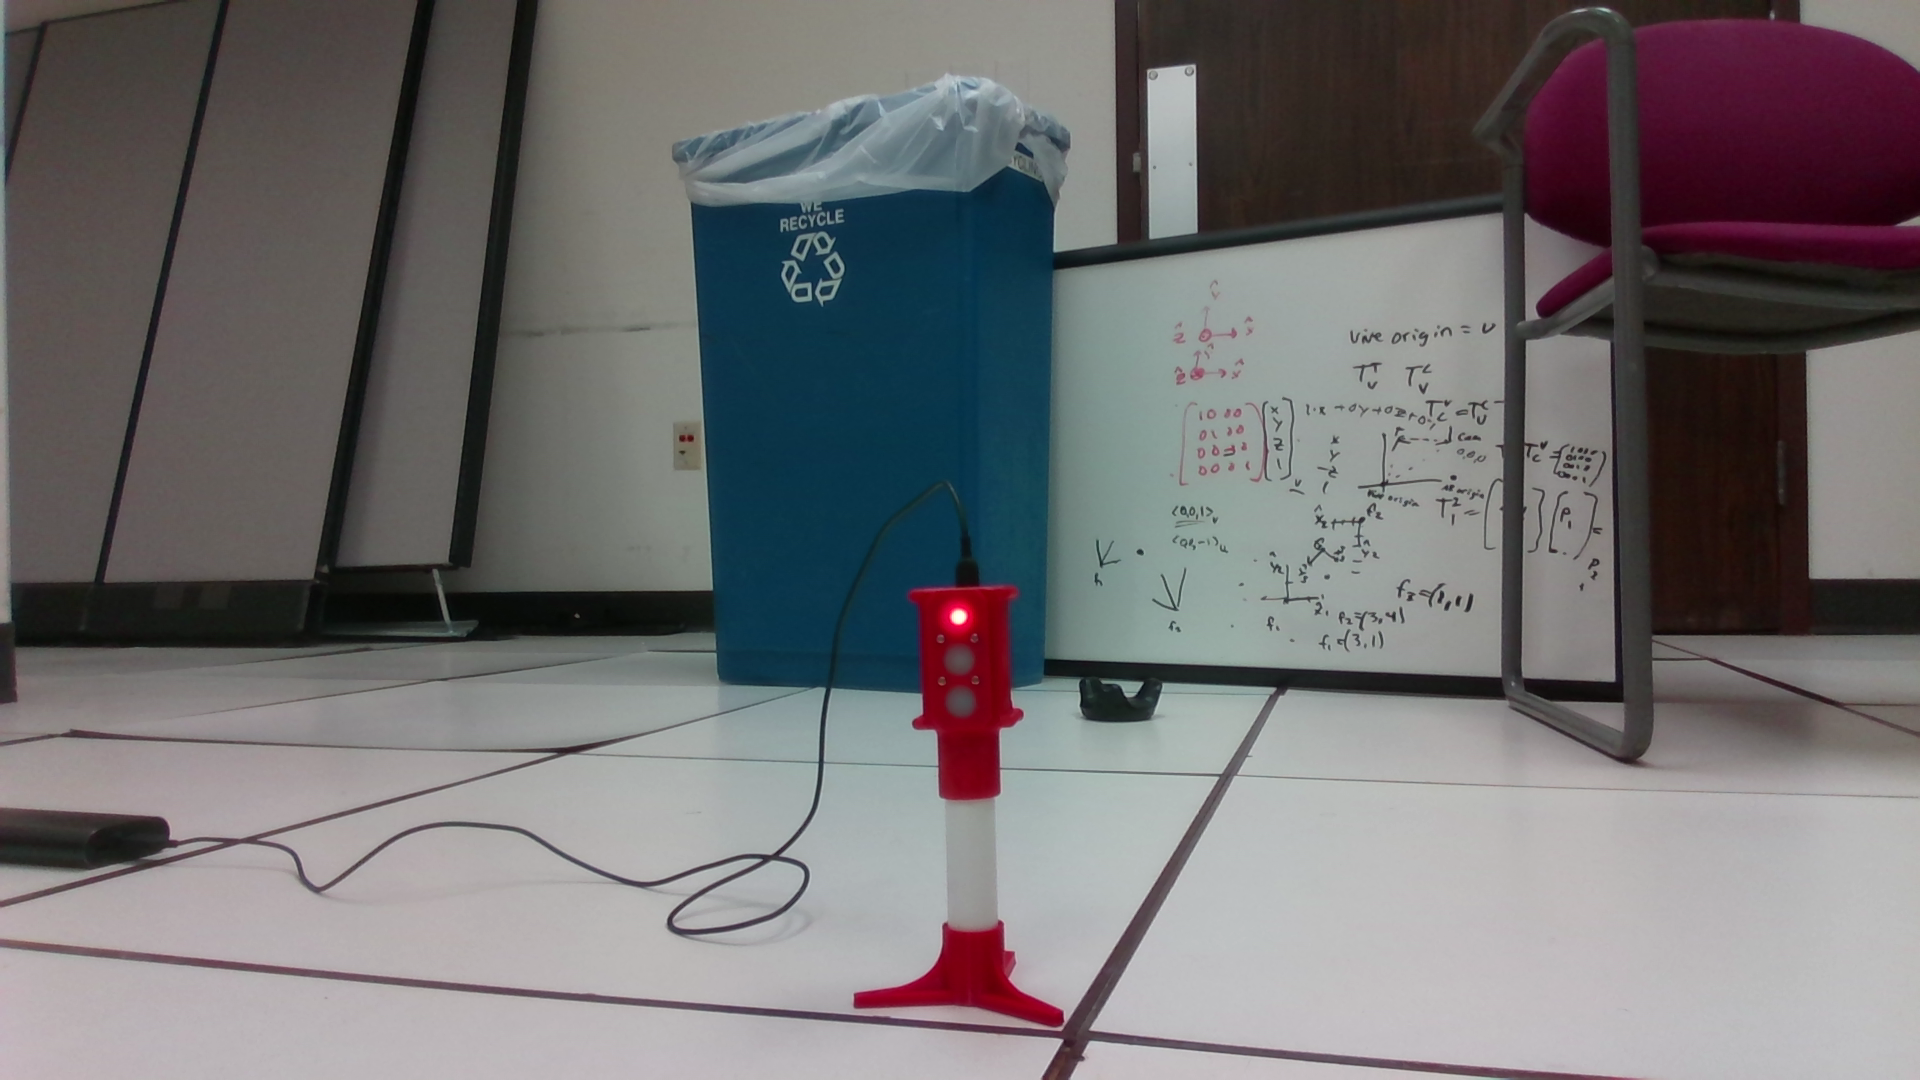stoplight: (909, 583, 1025, 803)
